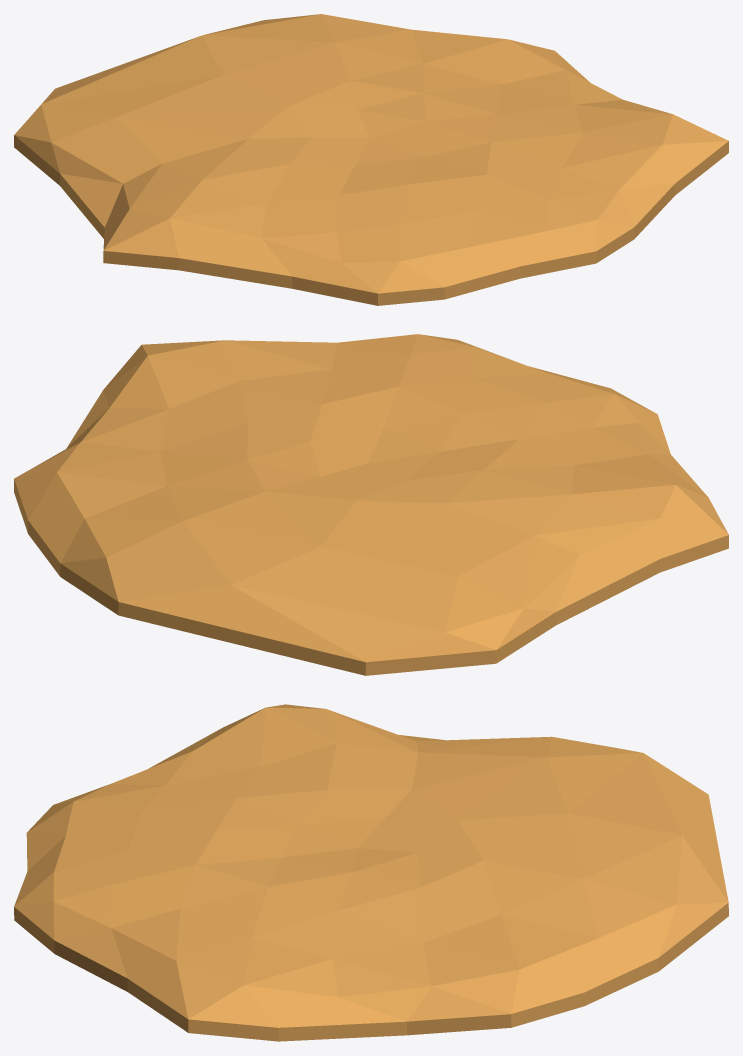
Rendered from lopoly-island.glb.
3 views of the same model, one above another, from view 1: azimuth 30°, elevation 25°; view 2: azimuth 150°, elevation 25°; view 3: azimuth 270°, elevation 25° (orthographic). The views are drawn at different scales.
Parts seen in each view (by area): view 1: Icosphere; view 2: Icosphere; view 3: Icosphere.
Part boxes in pixels (box(x1,y1,x2,y2)): Icosphere: box(14, 14, 728, 305); Icosphere: box(14, 334, 728, 675); Icosphere: box(14, 704, 728, 1041).
Bounding box in the file's own units: 22.65 × 2 × 21.71.
